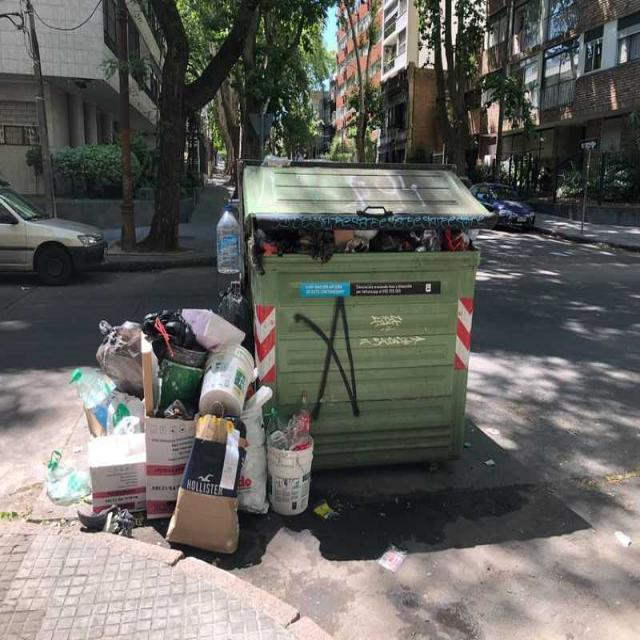garbage: (38, 286, 336, 558), (256, 222, 481, 255), (207, 198, 244, 280)
